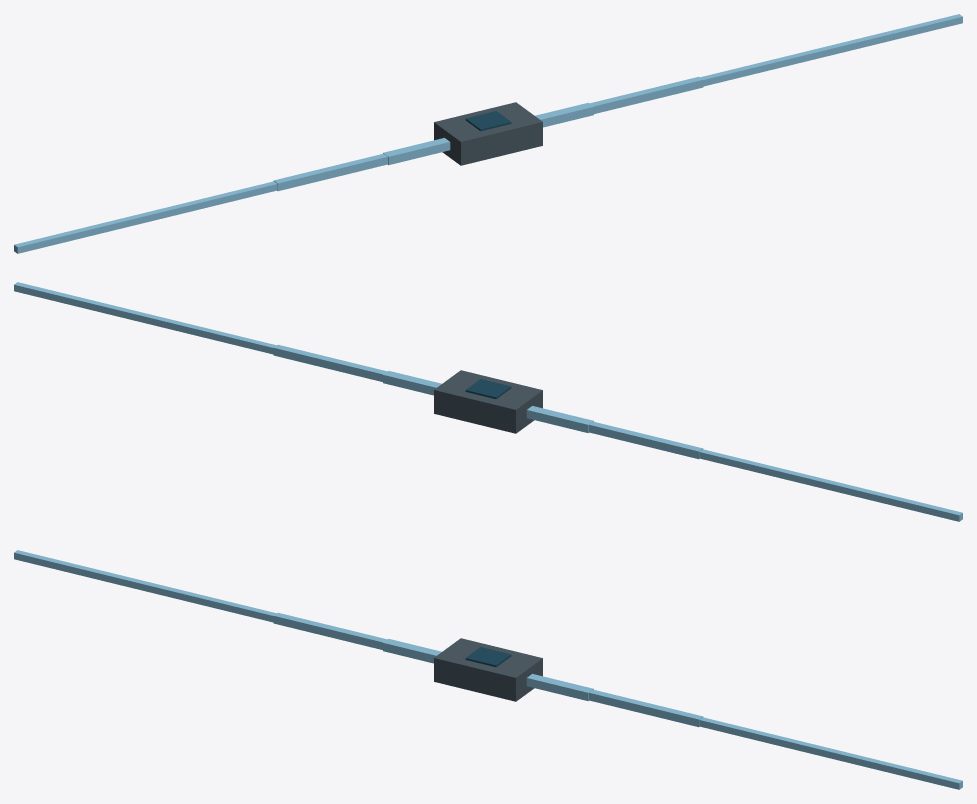
The model's file is sts_conley_berth10_body.dae.
The picture shows the model from 3 angles, top to bottom: view 1: azimuth 30°, elevation 25°; view 2: azimuth 150°, elevation 25°; view 3: azimuth 330°, elevation 25°; orthographic projection.
Parts seen in each view (by area): view 1: boom_lower_left, machine_house, portal_leg_left_land, top_girder_left, operator_cabin; view 2: boom_lower_left, machine_house, portal_leg_left_land, top_girder_left, operator_cabin; view 3: boom_lower_left, machine_house, portal_leg_left_land, top_girder_left, operator_cabin.
Boxes of the visible parts, box(x1,y1,x2,y2) form: boom_lower_left: box(14, 14, 962, 253); machine_house: box(434, 102, 542, 165); portal_leg_left_land: box(273, 76, 703, 191); top_girder_left: box(383, 102, 593, 165); operator_cabin: box(465, 111, 511, 131); boom_lower_left: box(14, 282, 962, 521); machine_house: box(434, 370, 542, 433); portal_leg_left_land: box(273, 344, 703, 459); top_girder_left: box(383, 370, 593, 433); operator_cabin: box(465, 379, 511, 399); boom_lower_left: box(14, 550, 962, 789); machine_house: box(434, 638, 542, 701); portal_leg_left_land: box(273, 612, 703, 727); top_girder_left: box(383, 638, 593, 701); operator_cabin: box(465, 647, 511, 667).
Bounding box in the file's own units: 82.88 × 4.1 × 2.3.
